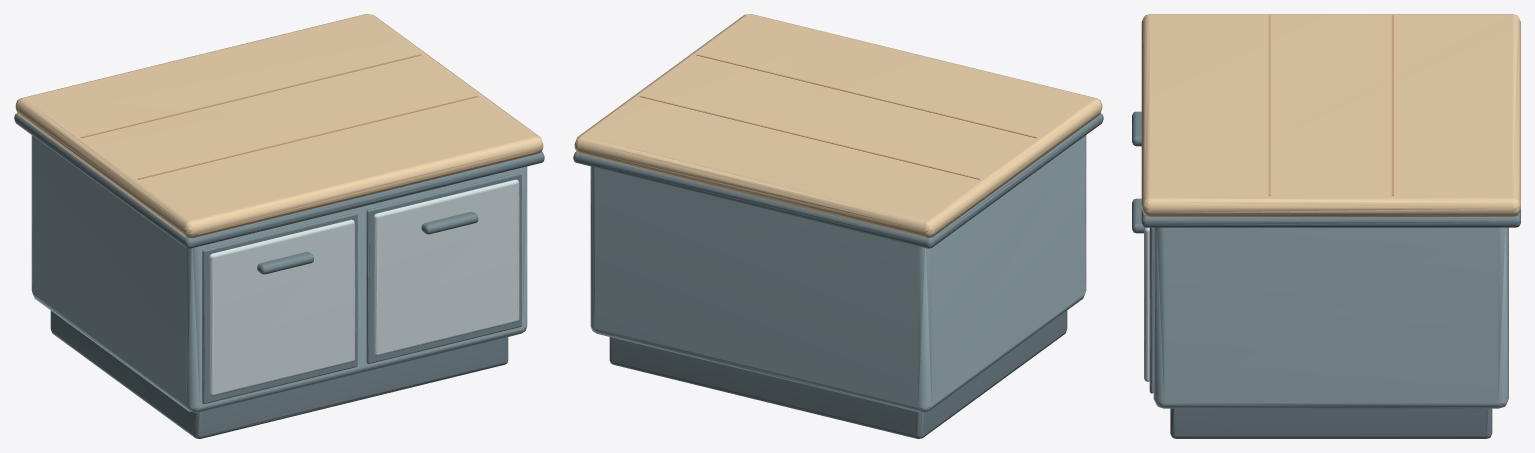
File: CounterWood.fbx
The picture shows the model from 3 angles, left to right: view 1: azimuth 30°, elevation 25°; view 2: azimuth 150°, elevation 25°; view 3: azimuth 270°, elevation 25°; orthographic projection. The views are drawn at different scales.
Visible parts, largest first — view 1: CounterWood.001; view 2: CounterWood.001; view 3: CounterWood.001.
Boxes of the visible parts, bbox=[...] form: CounterWood.001: bbox=[14, 14, 544, 438]; CounterWood.001: bbox=[573, 14, 1103, 438]; CounterWood.001: bbox=[1132, 14, 1520, 438].
Size of the model in its own units: 1.9 by 1.18 by 1.64.
